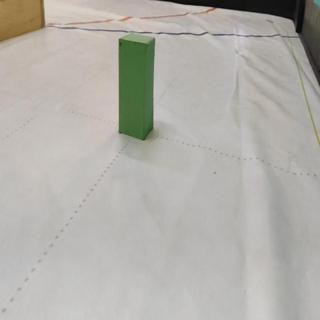greenbox: (116, 31, 157, 140)
